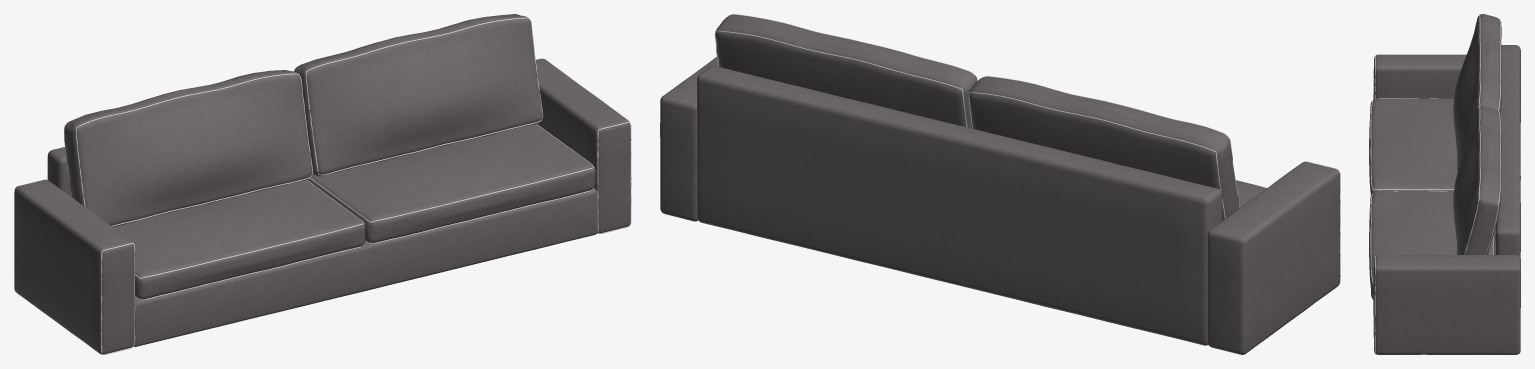
The model's file is stanza-piped-01-mobile.glb.
The picture shows the model from 3 angles, left to right: view 1: azimuth 30°, elevation 25°; view 2: azimuth 150°, elevation 25°; view 3: azimuth 270°, elevation 25°; orthographic projection. The views are drawn at different scales.
Visible parts, largest first — view 1: back_cushion_1_cover, back_cushion_2_cover, base_band, seat_cushion_2, seat_cushion_1, arm_l, arm_r, back_cushion_2_welt_ny, back_cushion_1_welt_ny, back_panel, seat_cushion_2_welt_top, arm_r_front_welt; view 2: back_panel, arm_l, back_cushion_1_cover, back_cushion_2_cover, arm_r, back_cushion_1_welt_py; view 3: arm_r, seat_cushion_1, seat_cushion_2, back_cushion_2_cover, back_panel, back_cushion_1_cover, arm_l, seat_cushion_1_welt_top, back_cushion_2_welt_ny, seat_cushion_2_welt_top, back_cushion_2_welt_py, arm_r_front_welt (+1 smaller).
Boxes of the visible parts, x1,y1,x2,y2 form: back_cushion_1_cover: [64, 70, 312, 227]; back_cushion_2_cover: [294, 14, 543, 176]; base_band: [134, 188, 597, 346]; seat_cushion_2: [307, 124, 595, 243]; seat_cushion_1: [113, 180, 365, 300]; arm_l: [14, 179, 134, 354]; arm_r: [535, 58, 630, 233]; back_cushion_2_welt_ny: [305, 17, 543, 175]; back_cushion_1_welt_ny: [75, 73, 312, 226]; back_panel: [47, 147, 71, 196]; seat_cushion_2_welt_top: [309, 124, 594, 222]; arm_r_front_welt: [597, 122, 631, 233]; back_panel: [697, 66, 1221, 345]; arm_l: [1207, 161, 1339, 354]; back_cushion_1_cover: [968, 76, 1239, 220]; back_cushion_2_cover: [715, 14, 976, 128]; arm_r: [660, 57, 718, 221]; back_cushion_1_welt_py: [968, 92, 1225, 218]; arm_r: [1373, 255, 1520, 354]; seat_cushion_1: [1369, 98, 1457, 194]; seat_cushion_2: [1369, 191, 1495, 299]; back_cushion_2_cover: [1453, 107, 1501, 254]; back_panel: [1495, 45, 1520, 307]; back_cushion_1_cover: [1453, 14, 1501, 171]; arm_l: [1373, 54, 1466, 99]; seat_cushion_1_welt_top: [1370, 98, 1454, 190]; back_cushion_2_welt_ny: [1464, 107, 1480, 254]; seat_cushion_2_welt_top: [1370, 191, 1493, 283]; back_cushion_2_welt_py: [1486, 111, 1500, 254]; arm_r_front_welt: [1374, 256, 1375, 354].
Size of the model in its own units: 3.47 by 1.12 by 1.03.
Materials: 2 (1 with a texture image).
